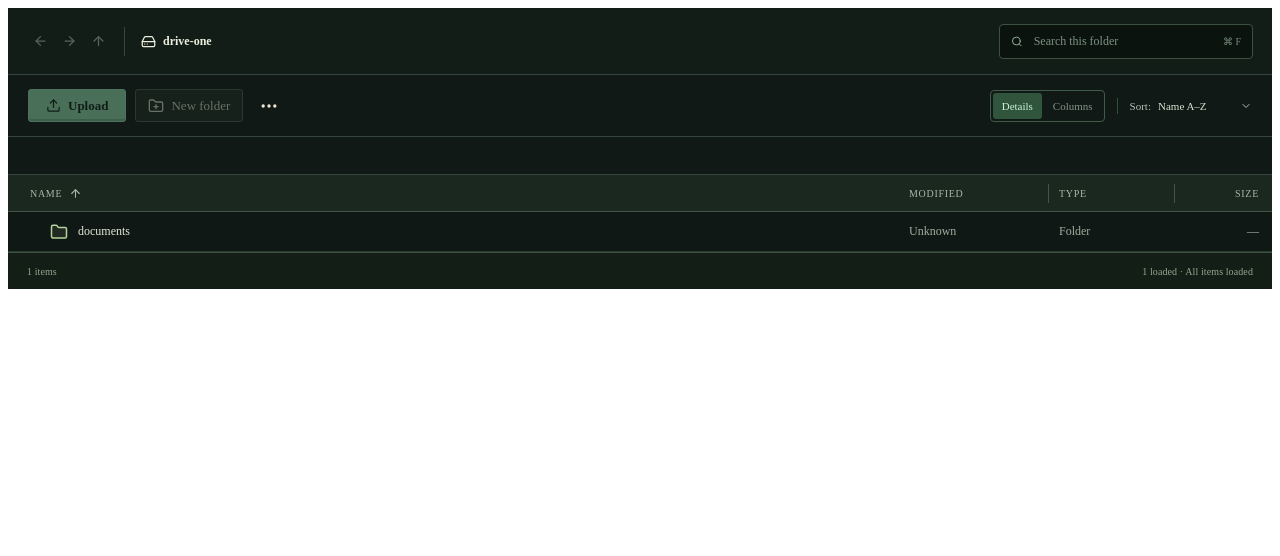
stable selection and keyboard › supports Back, Forward and Up
The image size is (1280, 556).
Later steps or results of the test are not shown.
Double-click the text "documents".
double_click(104, 232)  # box [78,224,130,239]
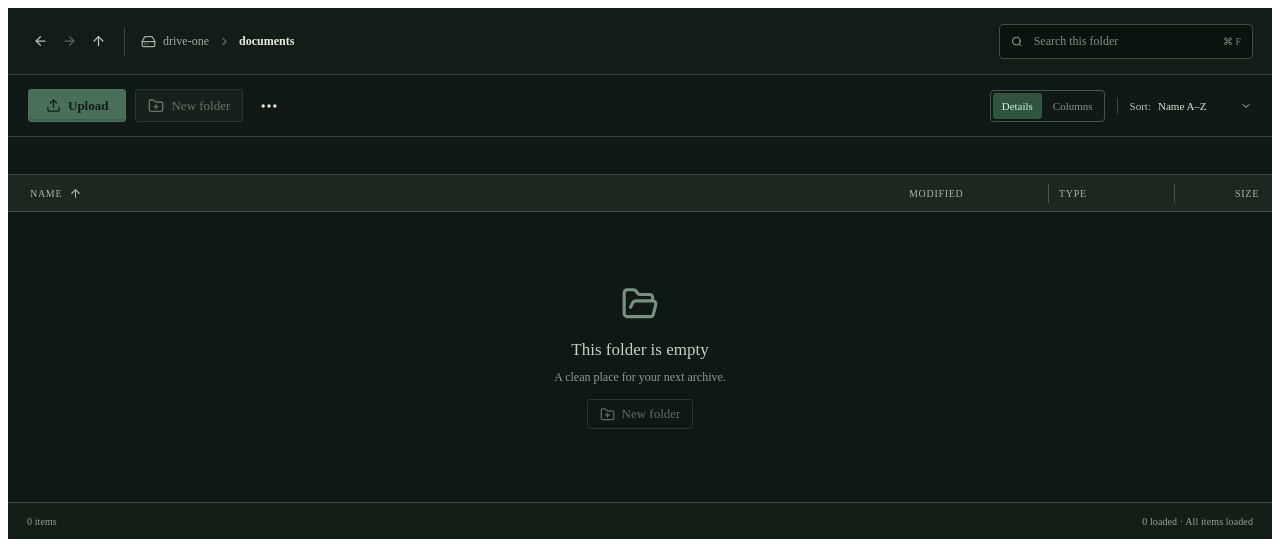
Expected: the heading "This folder is empty" is shown, [571,340,709,360]
Click the button named "Back".
click(40, 41)  # box [27,26,54,56]
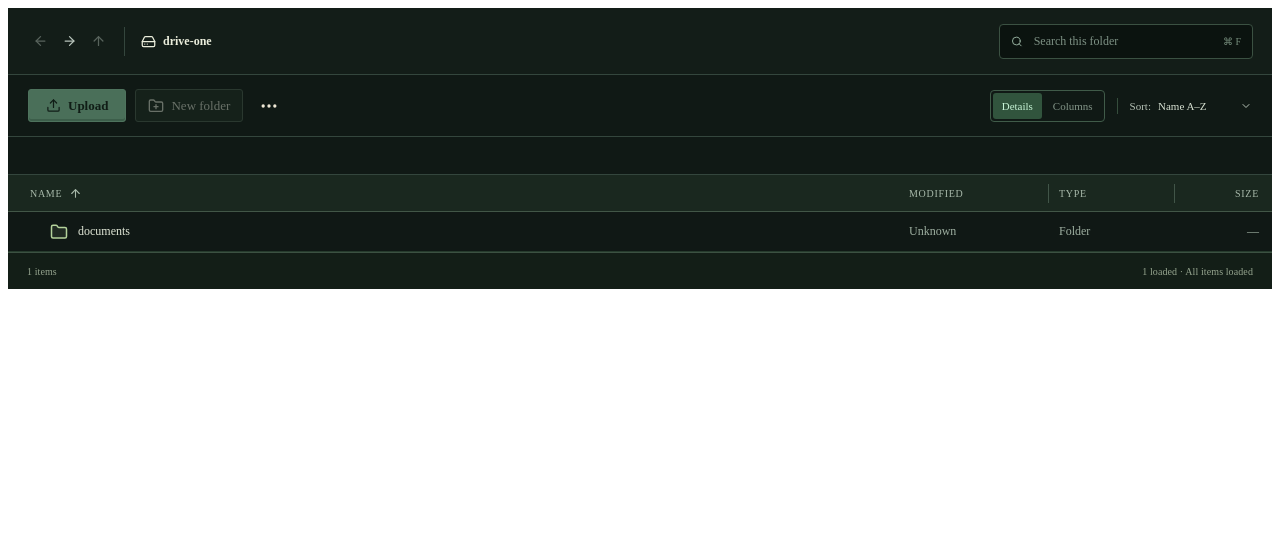
Click the button named "Forward".
click(70, 41)  # box [56,26,83,56]
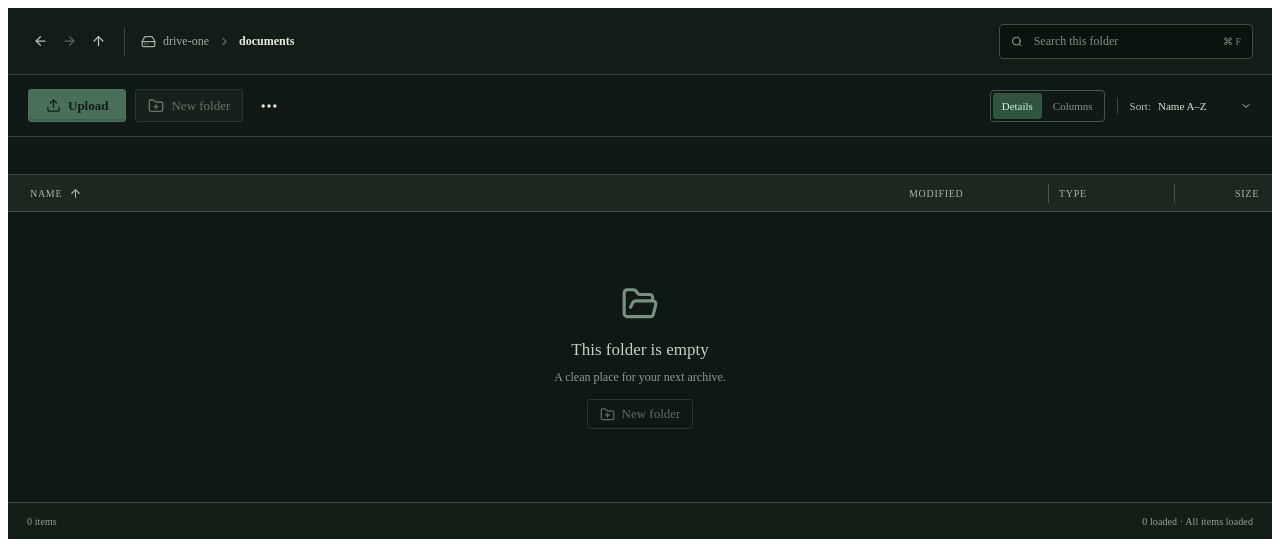
Expected: the heading "This folder is empty" is shown, [571,340,709,360]
